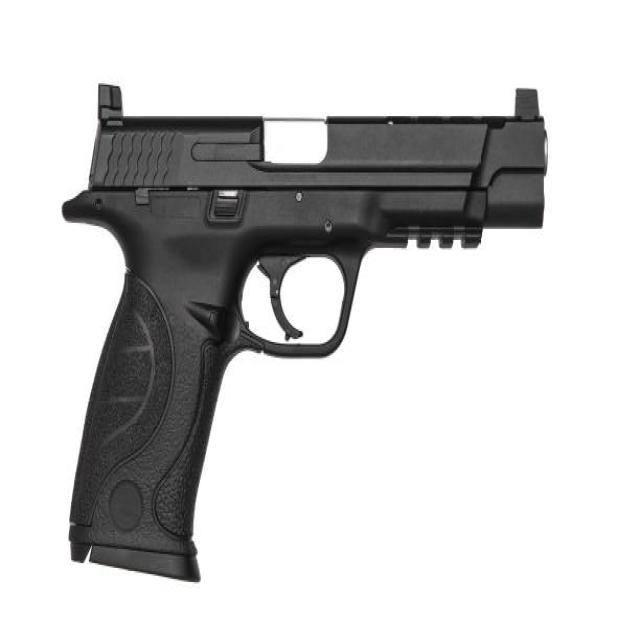pistol: (57, 71, 557, 588)
